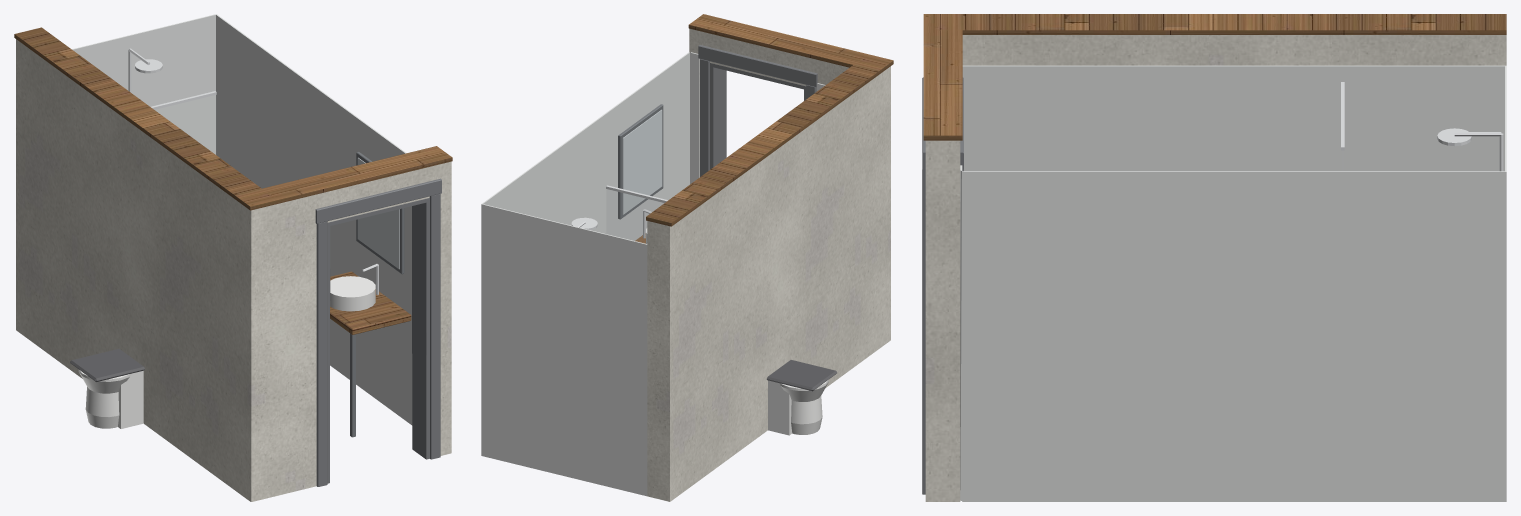
File: bathroom.glb
The picture shows the model from 3 angles, left to right: view 1: azimuth 30°, elevation 25°; view 2: azimuth 150°, elevation 25°; view 3: azimuth 270°, elevation 25°; orthographic projection. The views are drawn at different scales.
Visible parts, largest first — view 1: bathroom_plaster, bathroom_tile_a, bathroom_frame, bathroom_timber, bathroom_porcelain, bathroom_mirror, bathroom_glass, bathroom_dark, bathroom_steel_d, bathroom_chrome; view 2: bathroom_plaster, bathroom_tile_a, bathroom_timber, bathroom_frame, bathroom_mirror, bathroom_porcelain, bathroom_glass, bathroom_dark, bathroom_steel_d, bathroom_chrome; view 3: bathroom_tile_a, bathroom_plaster, bathroom_timber, bathroom_frame, bathroom_chrome.
Part boxes in pixels (x1,y1,x2,y2): bathroom_plaster: (16, 39, 451, 501); bathroom_tile_a: (72, 14, 412, 425); bathroom_frame: (315, 178, 441, 486); bathroom_timber: (14, 27, 452, 334); bathroom_porcelain: (78, 276, 375, 428); bathroom_mirror: (357, 157, 399, 269); bathroom_glass: (156, 95, 215, 153); bathroom_dark: (70, 348, 144, 381); bathroom_steel_d: (350, 152, 404, 437); bathroom_chrome: (128, 48, 378, 294); bathroom_plaster: (647, 28, 890, 501); bathroom_tile_a: (481, 52, 825, 496); bathroom_timber: (635, 14, 893, 243); bathroom_frame: (698, 45, 817, 176); bathroom_mirror: (622, 109, 662, 214); bathroom_porcelain: (646, 228, 828, 435); bathroom_glass: (607, 190, 662, 243); bathroom_dark: (766, 360, 837, 391); bathroom_steel_d: (618, 104, 663, 219); bathroom_chrome: (571, 185, 667, 238); bathroom_tile_a: (960, 65, 1506, 501); bathroom_plaster: (925, 35, 1506, 501); bathroom_timber: (923, 14, 1506, 140); bathroom_frame: (922, 77, 963, 494); bathroom_chrome: (1341, 82, 1503, 171).
Size of the model in its own units: 2.06 by 2.33 by 3.37.
Materials: 11 (2 with a texture image).
